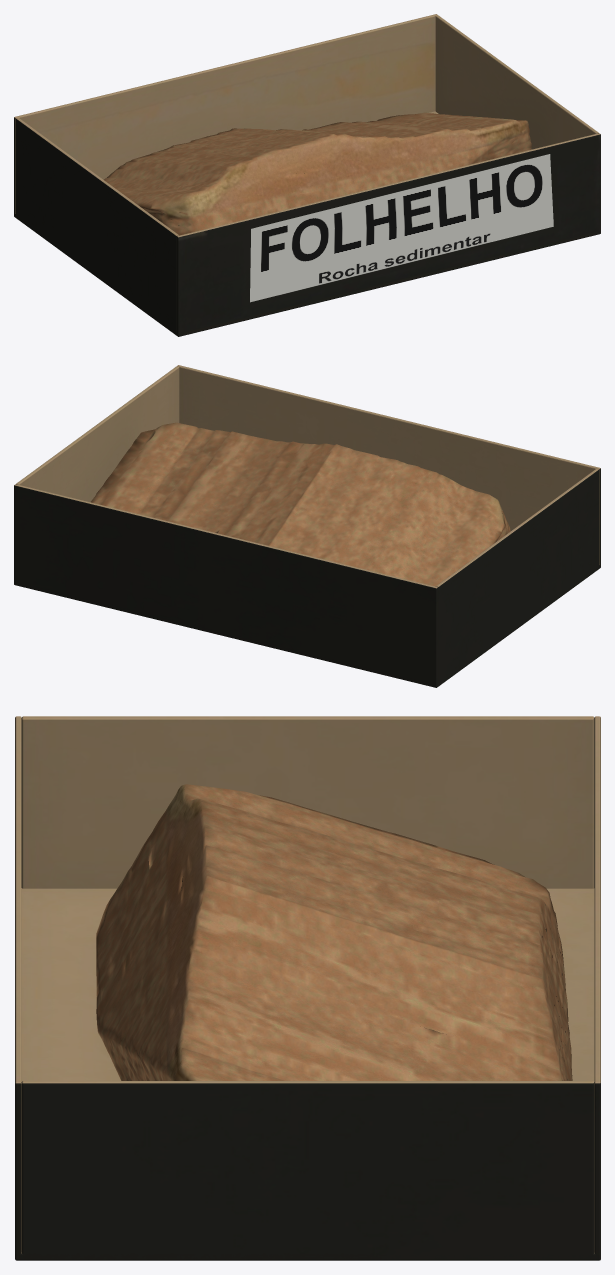
Rendered from rocha_02_04_folhelho.glb.
3 views of the same model, one above another, from view 1: azimuth 30°, elevation 25°; view 2: azimuth 150°, elevation 25°; view 3: azimuth 270°, elevation 25° (orthographic). The views are drawn at different scales.
Parts seen in each view (by area): view 1: Bandeja_Fundo_mo04, Fragmento_01_mo04, Etiqueta_mo04, Bandeja_Frente_mo04, Bandeja_Esquerda_mo04, Bandeja_Direita_mo04, Bandeja_Base_mo04; view 2: Bandeja_Fundo_mo04, Fragmento_01_mo04, Bandeja_Frente_mo04, Bandeja_Esquerda_mo04, Bandeja_Direita_mo04, Bandeja_Base_mo04; view 3: Fragmento_01_mo04, Bandeja_Direita_mo04, Bandeja_Esquerda_mo04, Bandeja_Base_mo04, Bandeja_Fundo_mo04, Bandeja_Frente_mo04.
Part boxes in pixels (x1,y1,x2,y2): Bandeja_Fundo_mo04: [14, 14, 437, 216]; Fragmento_01_mo04: [104, 112, 531, 235]; Etiqueta_mo04: [250, 154, 553, 302]; Bandeja_Frente_mo04: [176, 133, 600, 336]; Bandeja_Esquerda_mo04: [16, 118, 178, 334]; Bandeja_Direita_mo04: [435, 15, 598, 149]; Bandeja_Base_mo04: [14, 111, 600, 336]; Bandeja_Fundo_mo04: [14, 484, 438, 687]; Fragmento_01_mo04: [91, 422, 510, 586]; Bandeja_Frente_mo04: [177, 365, 600, 567]; Bandeja_Esquerda_mo04: [436, 469, 598, 685]; Bandeja_Direita_mo04: [16, 366, 179, 502]; Bandeja_Base_mo04: [14, 565, 599, 687]; Fragmento_01_mo04: [96, 784, 572, 1080]; Bandeja_Direita_mo04: [21, 1081, 594, 1260]; Bandeja_Esquerda_mo04: [21, 716, 594, 888]; Bandeja_Base_mo04: [15, 888, 600, 1260]; Bandeja_Fundo_mo04: [594, 716, 600, 1260]; Bandeja_Frente_mo04: [15, 716, 21, 1259].
Bounding box in the file's own units: 0.1964 × 0.0498 × 0.1326.
3 materials, 3 textured.
